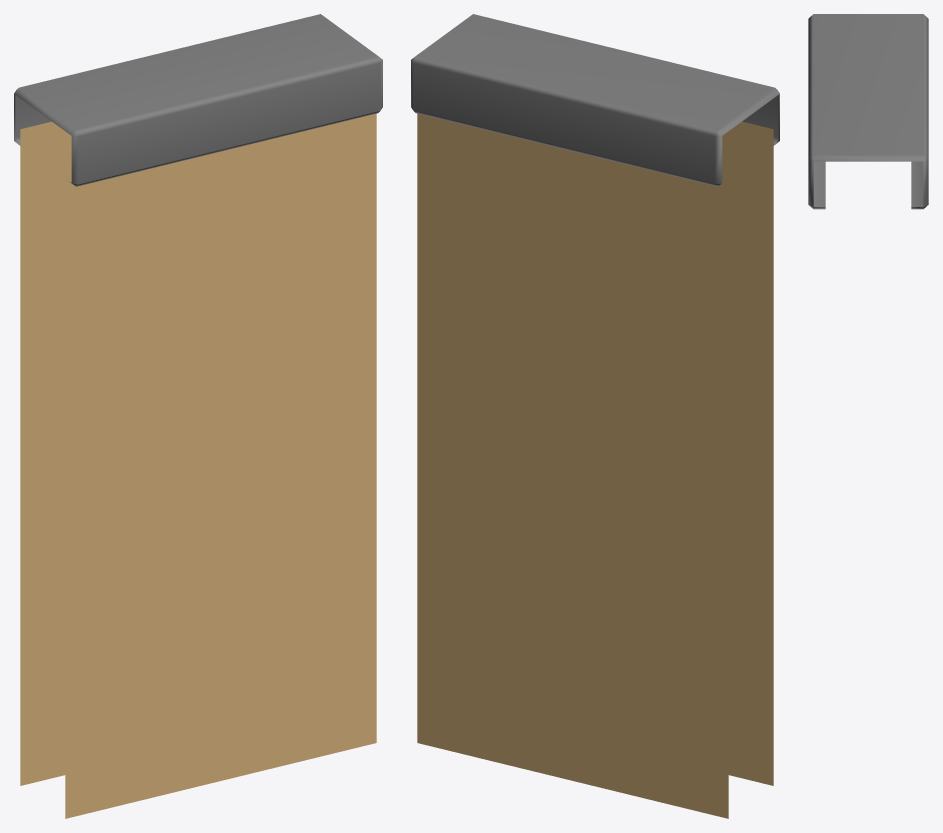
The model's file is SM_WallA_4x8_LOD1.fbx.
3 renders of one model, left to right at view 1: azimuth 30°, elevation 25°; view 2: azimuth 150°, elevation 25°; view 3: azimuth 270°, elevation 25°, orthographic. The views are drawn at different scales.
Parts seen in each view (by area): view 1: SM_WallA_4x8_LOD1; view 2: SM_WallA_4x8_LOD1; view 3: SM_WallA_4x8_LOD1.
Boxes of the visible parts, left/top/right/bottom form: SM_WallA_4x8_LOD1: left=14, top=14, right=382, bottom=818; SM_WallA_4x8_LOD1: left=411, top=14, right=779, bottom=818; SM_WallA_4x8_LOD1: left=808, top=14, right=928, bottom=209.
Size of the model in its own units: 4 by 8.5 by 1.4.
